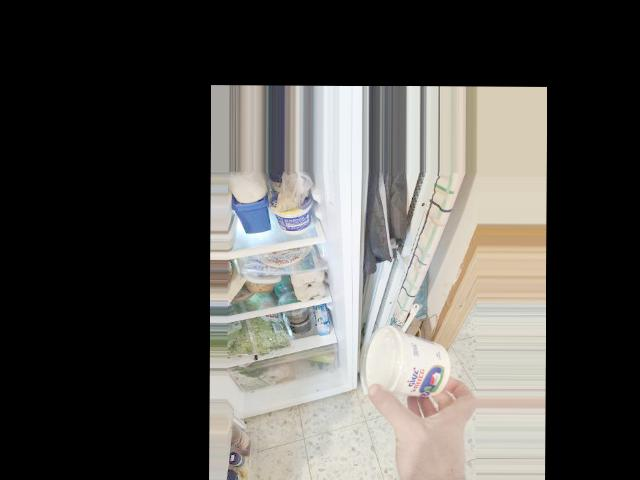cotage: (367, 327, 453, 404)
